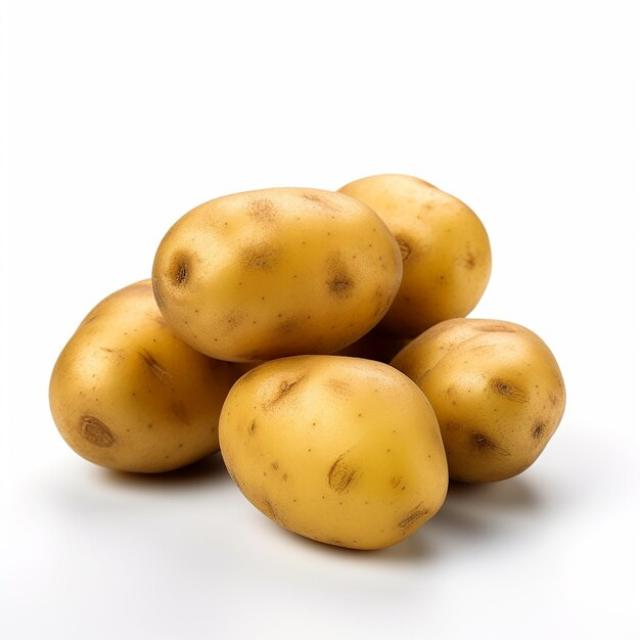Potato: (138, 164, 428, 400), (201, 343, 459, 554), (273, 164, 498, 345), (46, 273, 238, 469), (385, 314, 573, 500)
